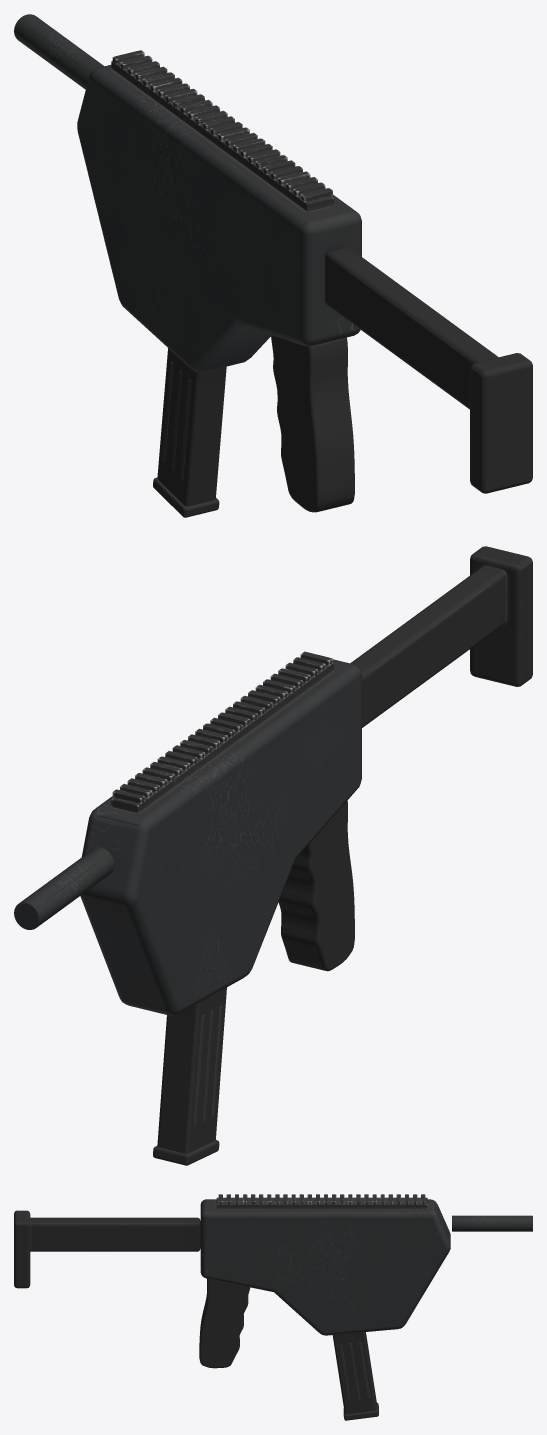
Rendered from vector.gltf.
3 views of the same model, one above another, from view 1: azimuth 30°, elevation 25°; view 2: azimuth 150°, elevation 25°; view 3: azimuth 270°, elevation 25° (orthographic). The views are drawn at different scales.
Visible parts, largest first — view 1: Frame, Stock, Mag_body; view 2: Frame, Stock, Mag_body; view 3: Frame, Stock, Mag_body.
Boxes of the visible parts, x1,y1,x2,y2 form: Frame: [14, 14, 361, 512]; Stock: [325, 247, 532, 493]; Mag_body: [153, 348, 226, 517]; Frame: [14, 651, 361, 1015]; Stock: [350, 546, 532, 727]; Mag_body: [153, 987, 226, 1165]; Frame: [199, 1194, 532, 1368]; Stock: [14, 1210, 200, 1288]; Mag_body: [332, 1332, 378, 1420].
Bounding box in the file's own units: 0.046 × 0.2974 × 0.64.
3 materials, 3 textured.
